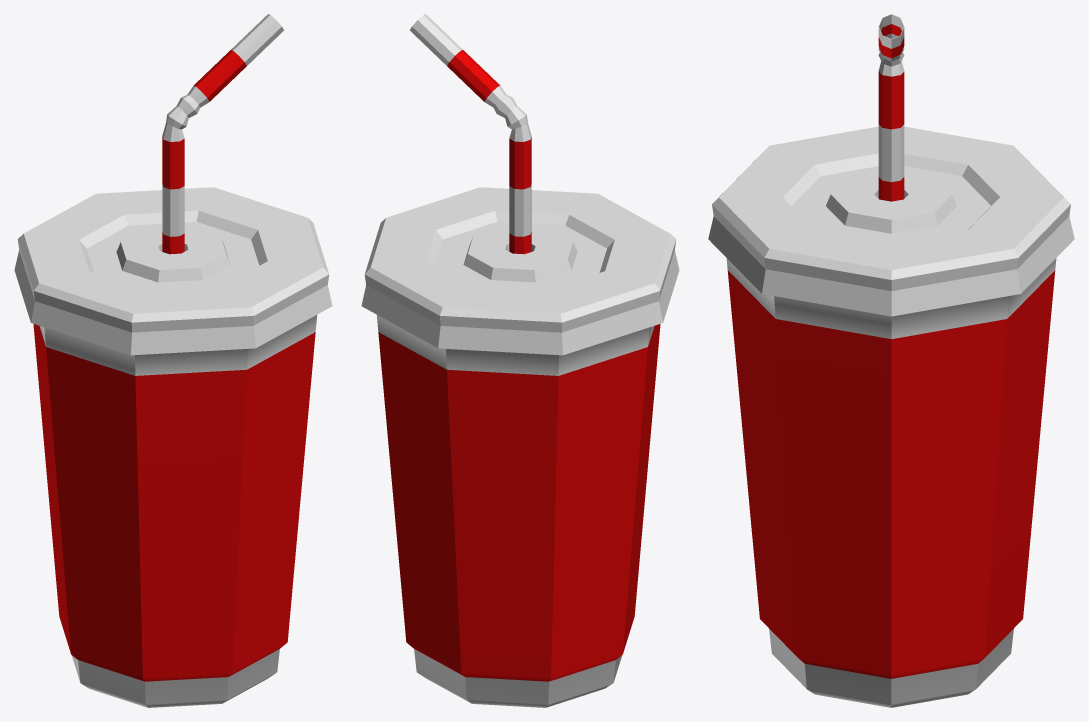
File: Coffee_Cup.fbx
The picture shows the model from 3 angles, left to right: view 1: azimuth 30°, elevation 25°; view 2: azimuth 150°, elevation 25°; view 3: azimuth 270°, elevation 25°; orthographic projection. The views are drawn at different scales.
Visible parts, largest first — view 1: pCylinder1, pCylinder2; view 2: pCylinder1, pCylinder2; view 3: pCylinder1, pCylinder2.
Part boxes in pixels (x1,y1,x2,y2): pCylinder1: [14, 187, 332, 707]; pCylinder2: [162, 14, 284, 254]; pCylinder1: [361, 187, 679, 707]; pCylinder2: [409, 14, 531, 254]; pCylinder1: [708, 126, 1074, 707]; pCylinder2: [878, 14, 904, 201].
Bounding box in the file's own units: 0.8821 × 1.86 × 0.8821.
